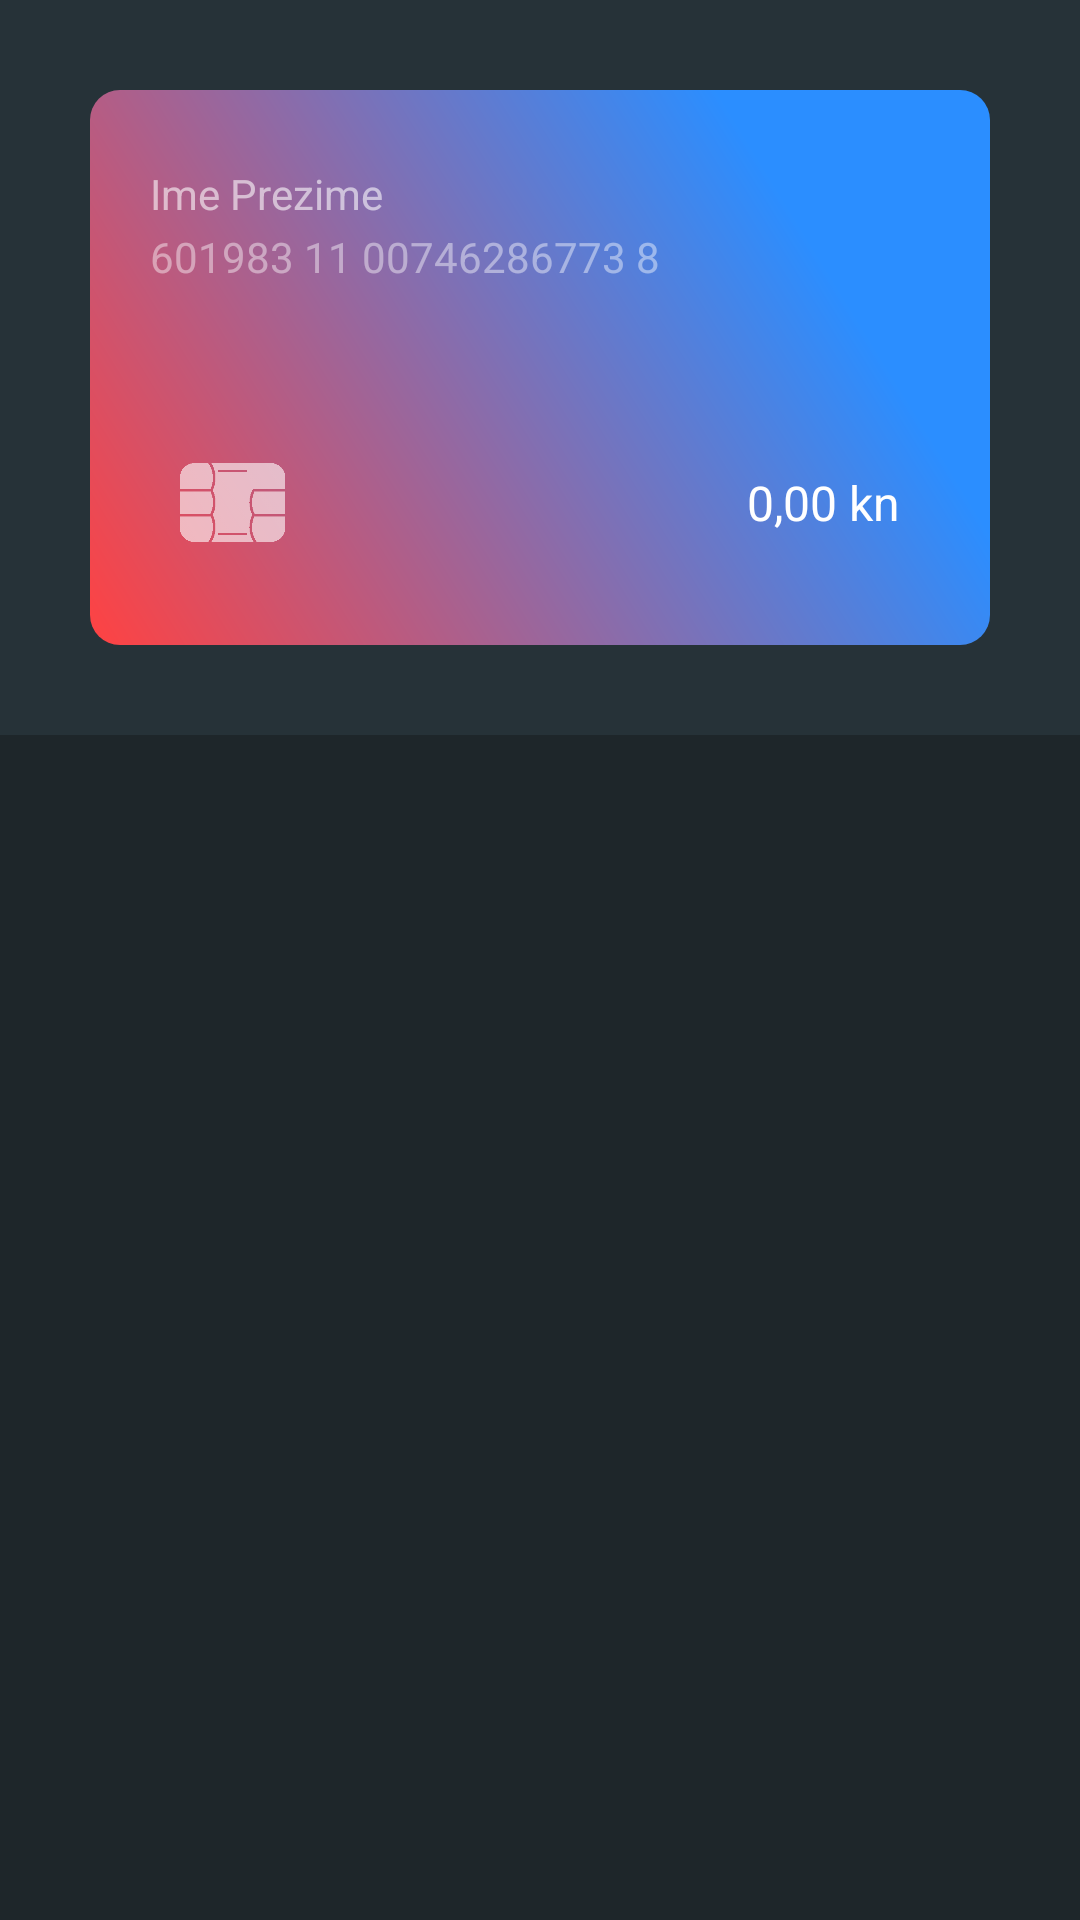

Icons on this 1080px x 1920px Android screen, each with its box as (x1, y1, x2, y2):
emv chip: (180, 463, 285, 555)
